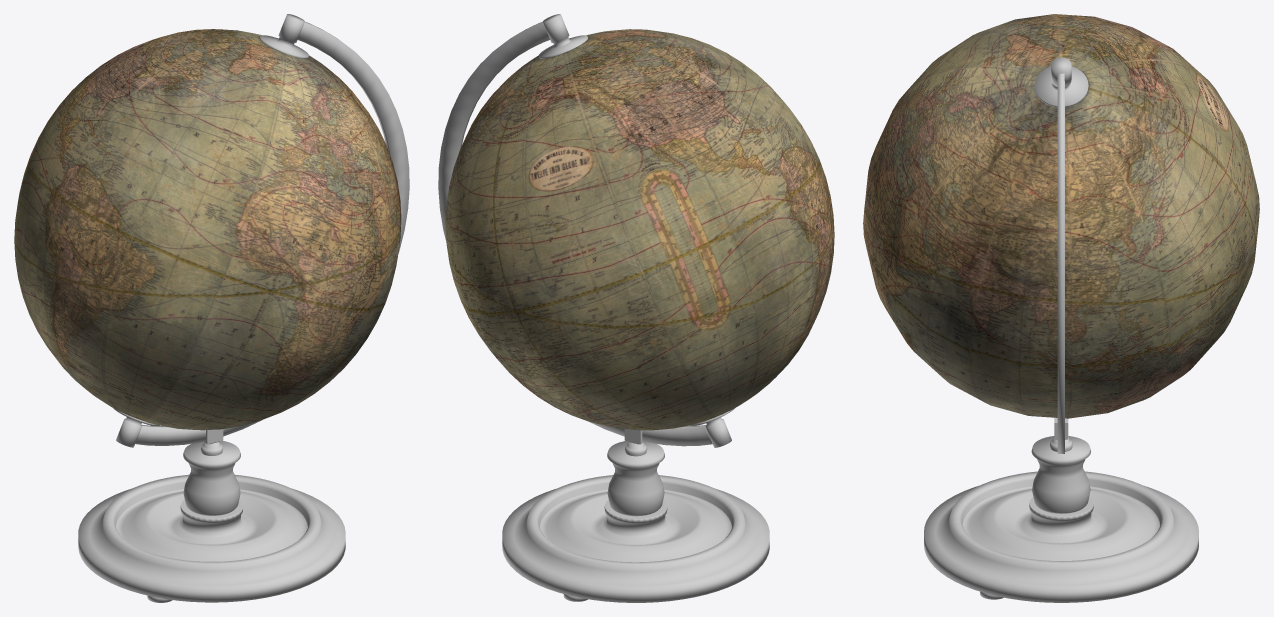
The picture shows the model from 3 angles, left to right: view 1: azimuth 30°, elevation 25°; view 2: azimuth 150°, elevation 25°; view 3: azimuth 270°, elevation 25°; orthographic projection. The views are drawn at different scales.
Visible parts, largest first — view 1: Globe_low.001, Globe Base_low.001; view 2: Globe_low.001, Globe Base_low.001; view 3: Globe_low.001, Globe Base_low.001.
Part boxes in pixels (x1,y1,x2,y2): Globe_low.001: (14, 29, 401, 430); Globe Base_low.001: (78, 14, 409, 602); Globe_low.001: (445, 29, 834, 430); Globe Base_low.001: (438, 14, 769, 602); Globe_low.001: (863, 14, 1259, 418); Globe Base_low.001: (924, 57, 1198, 602).
Bounding box in the file's own units: 2.77 × 3.72 × 2.51.
